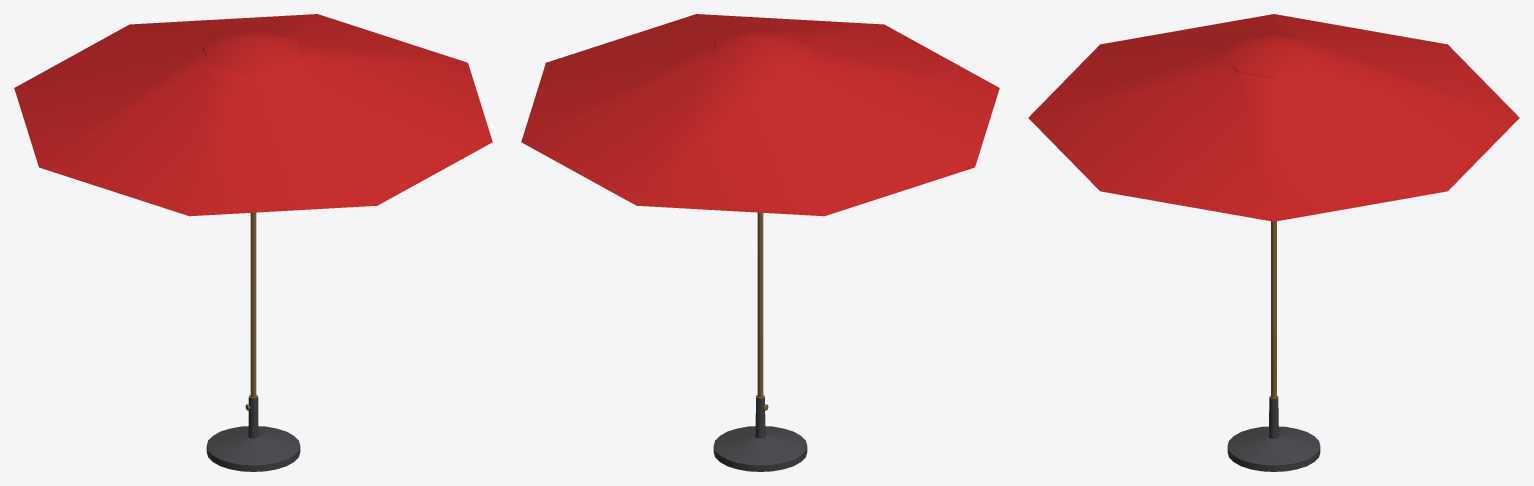
Rendered from umbrella_red.glb.
The picture shows the model from 3 angles, left to right: view 1: azimuth 30°, elevation 25°; view 2: azimuth 150°, elevation 25°; view 3: azimuth 270°, elevation 25°; orthographic projection.
Visible parts, largest first — view 1: prop; view 2: prop; view 3: prop.
Boxes of the visible parts, x1,y1,x2,y2 form: prop: [14, 14, 492, 471]; prop: [521, 14, 999, 471]; prop: [1028, 14, 1519, 471].
Size of the model in its own units: 2.53 by 2.33 by 2.53.
Materials: 1 (1 with a texture image).
